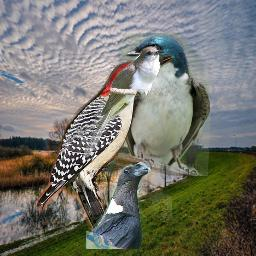Crow: (86, 162, 151, 249)
Cuckoo: (82, 46, 164, 158)
Swallow: (118, 33, 210, 176)
Woodpecker: (34, 55, 172, 251)
